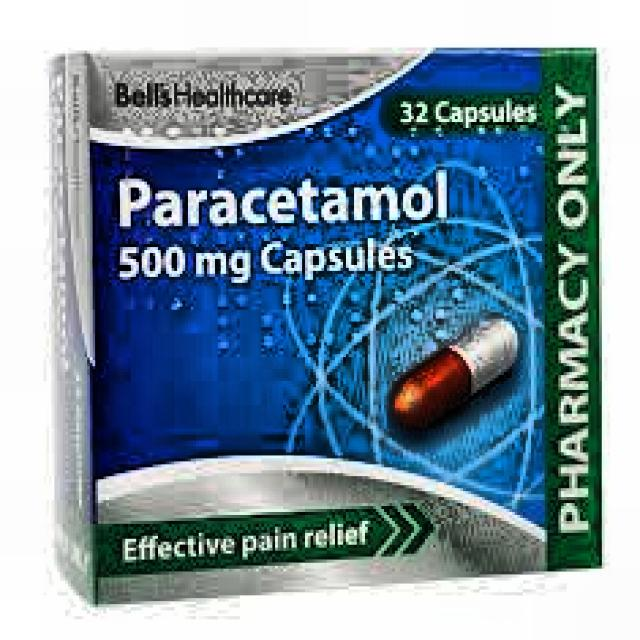Paracetamol: (106, 162, 474, 310)
